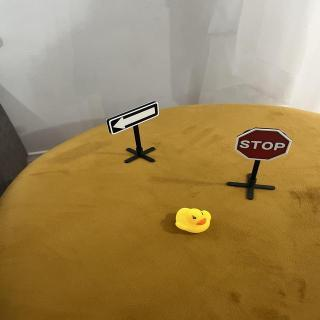duck_regular: (175, 207, 214, 235)
sign_oneway_left: (108, 100, 161, 137)
sign_stop: (235, 127, 294, 163)
